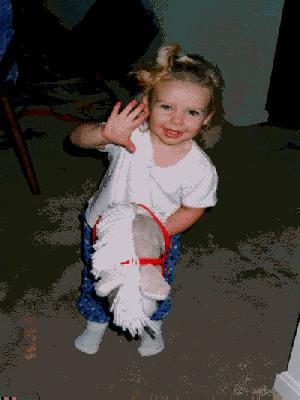person: (73, 41, 221, 357)
